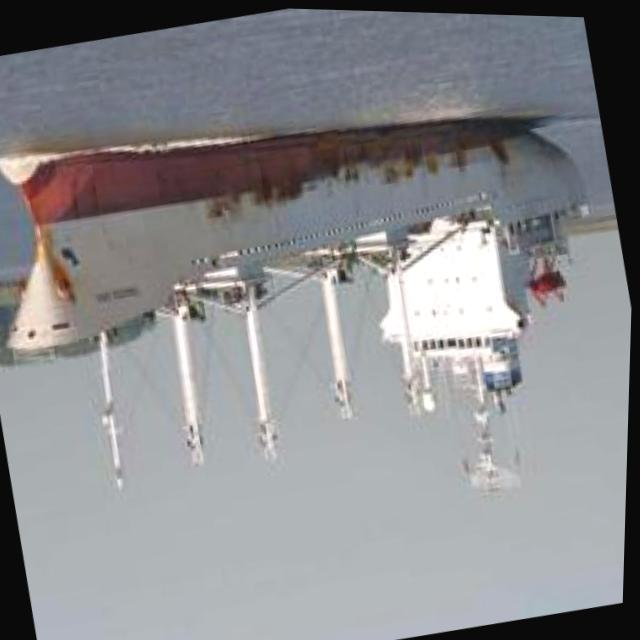ship2: (0, 113, 593, 486)
